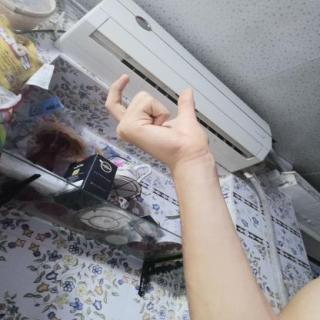NOON: (93, 68, 224, 175)
